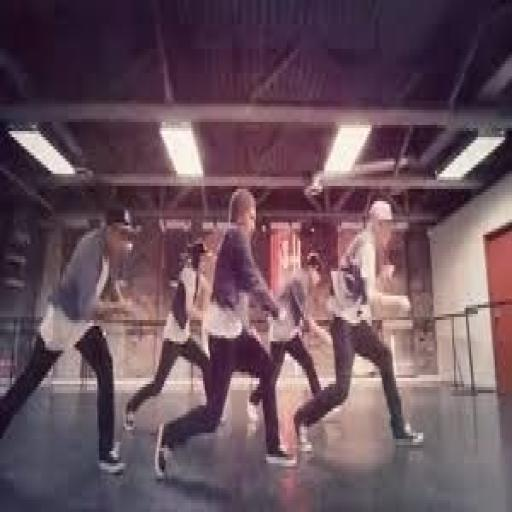dancing: (152, 186, 299, 484), (0, 195, 140, 479), (292, 195, 427, 457)
